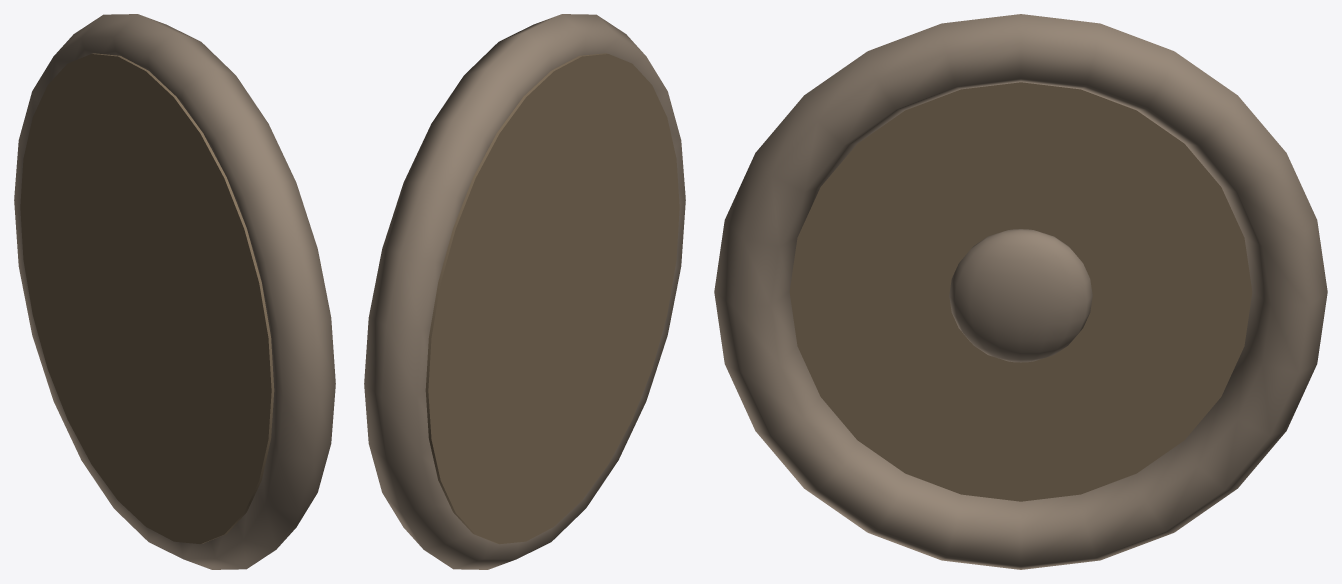
The model's file is escudo_esqueleto.glb.
The picture shows the model from 3 angles, left to right: view 1: azimuth 30°, elevation 25°; view 2: azimuth 150°, elevation 25°; view 3: azimuth 270°, elevation 25°; orthographic projection. The views are drawn at different scales.
Parts seen in each view (by area): view 1: Escudo_Esqueleto; view 2: Escudo_Esqueleto; view 3: Escudo_Esqueleto.
Part boxes in pixels (<box>): Escudo_Esqueleto: <box>14,14,335,569</box>; Escudo_Esqueleto: <box>364,14,685,569</box>; Escudo_Esqueleto: <box>714,14,1327,569</box>.
Size of the model in its own units: 0.09 by 0.684 by 0.684.
